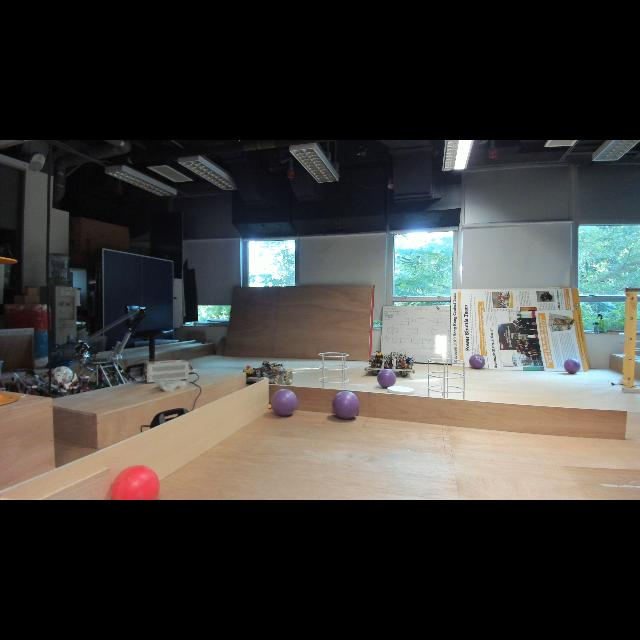P: (329, 390, 363, 420), (268, 388, 300, 416), (376, 366, 398, 389), (562, 356, 582, 376), (469, 352, 487, 372)
R: (106, 466, 162, 499)
S: (426, 356, 466, 406), (316, 349, 350, 393)
